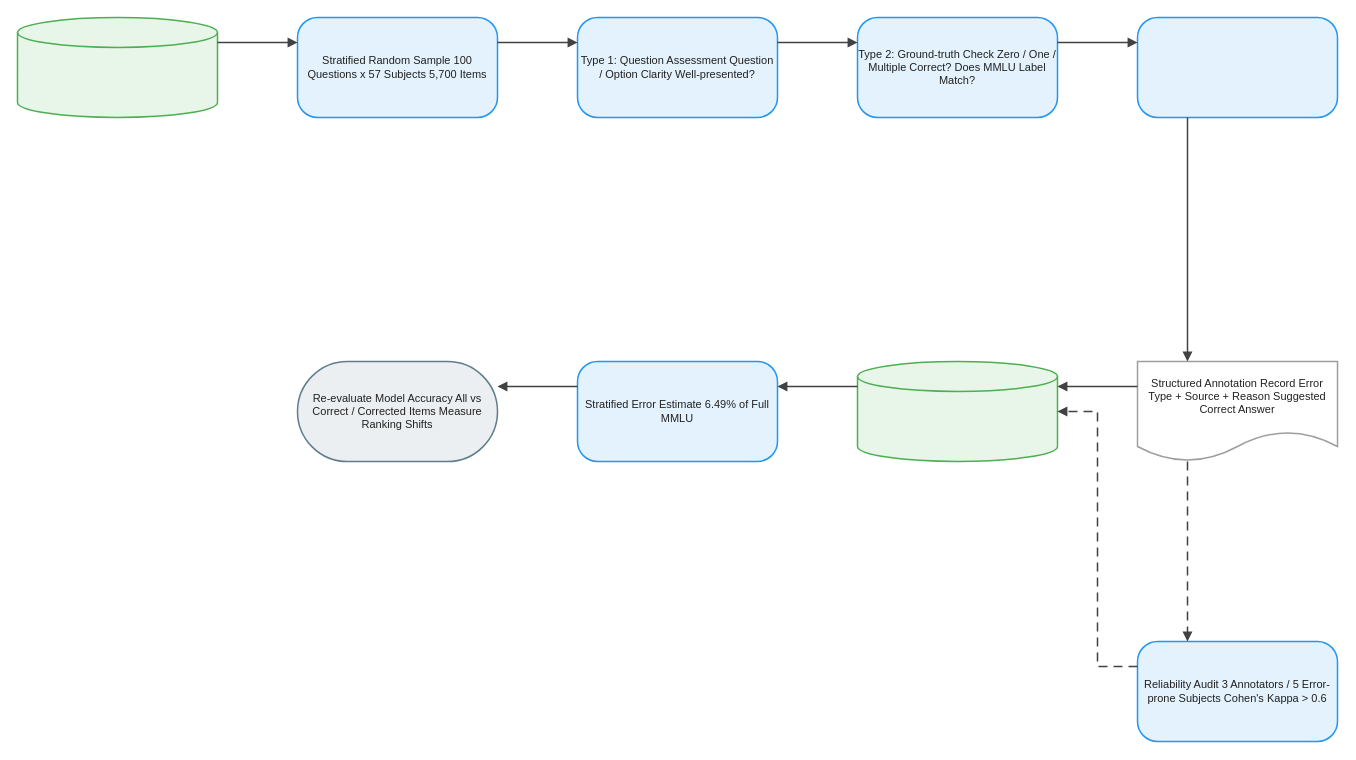
The diagram is 1356 pixels wide and 760 high, and some of its shapes have lost their labels. Each missing label, with the centre of its shape:
14 Human Experts Exact-match Source Search Trusted Evidence or Expert Flag: the point at 1237,67
MMLU-Redux 5,700 Re-annotated Items All 57 Subjects: the point at 957,411
Original MMLU Test Sets Multiple-choice Questions Original Answers Retained: the point at 117,67
